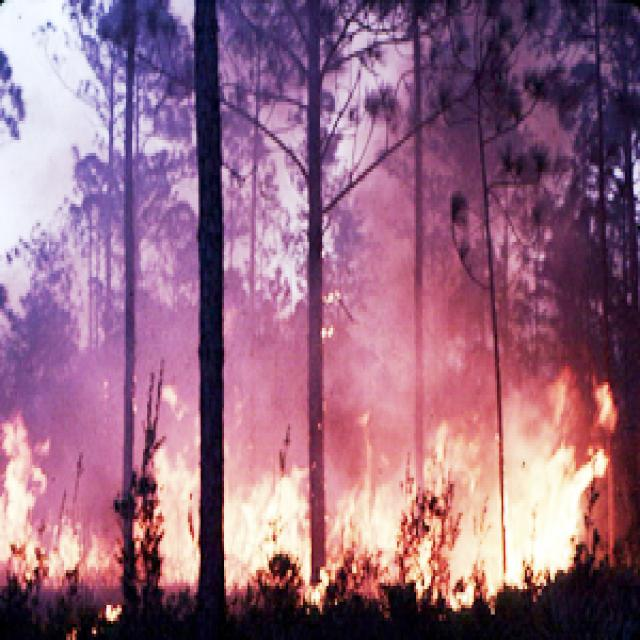api: (1, 418, 615, 599)
asap: (360, 152, 433, 423)
